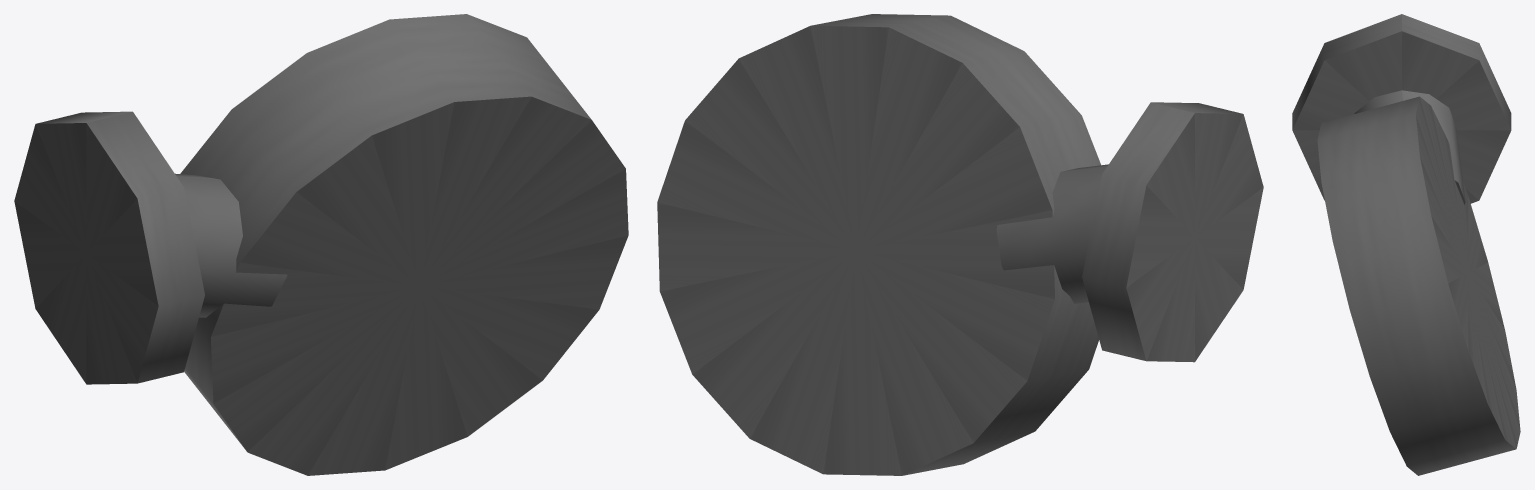
Rendered from mastarmcurve_10x2_c3_west.obj.
3 views of the same model, side by side, from view 1: azimuth 30°, elevation 25°; view 2: azimuth 150°, elevation 25°; view 3: azimuth 270°, elevation 25° (orthographic). The views are drawn at different scales.
Parts seen in each view (by area): view 1: mastarm_10x2_c3_west; view 2: mastarm_10x2_c3_west; view 3: mastarm_10x2_c3_west.
Part boxes in pixels (x1=…): mastarm_10x2_c3_west: x1=14, y1=14, x2=628, y2=475; mastarm_10x2_c3_west: x1=657, y1=14, x2=1263, y2=475; mastarm_10x2_c3_west: x1=1292, y1=14, x2=1520, y2=475.
Bounding box in the file's own units: 0.8336 × 0.6942 × 0.4168.
